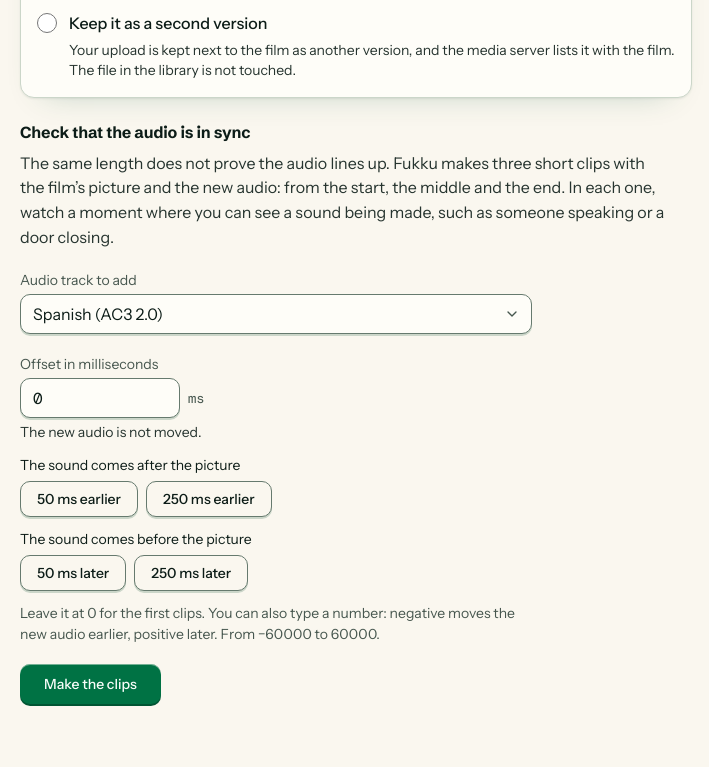
Test: the sync check › shows the server's refusal of the request
(page scrolled)
Click the button "Make the clips" at (90, 684), box 20,664 -> 161,704
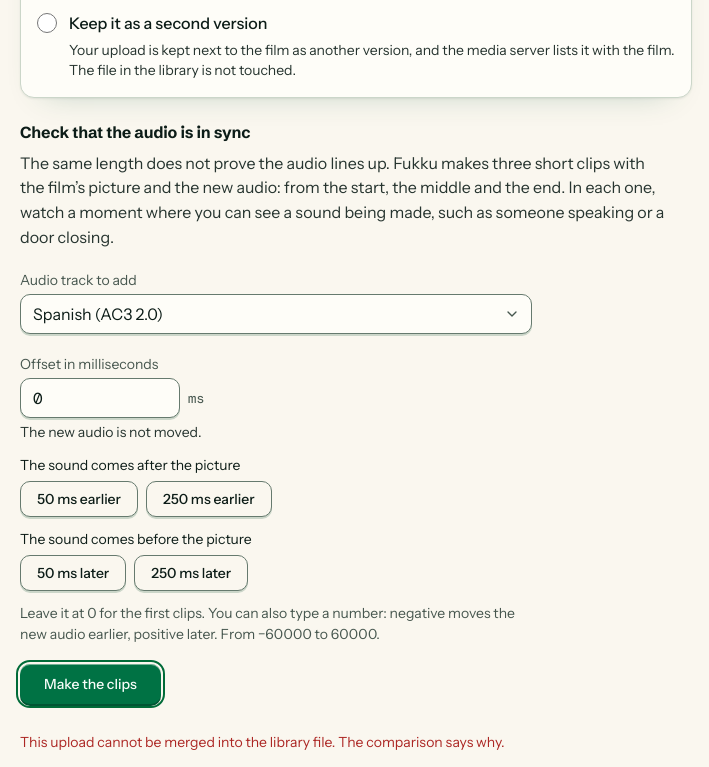
Expected: the text "This upload cannot be merged into the library file. The comparison says why." is shown, 20,733 -> 505,751
